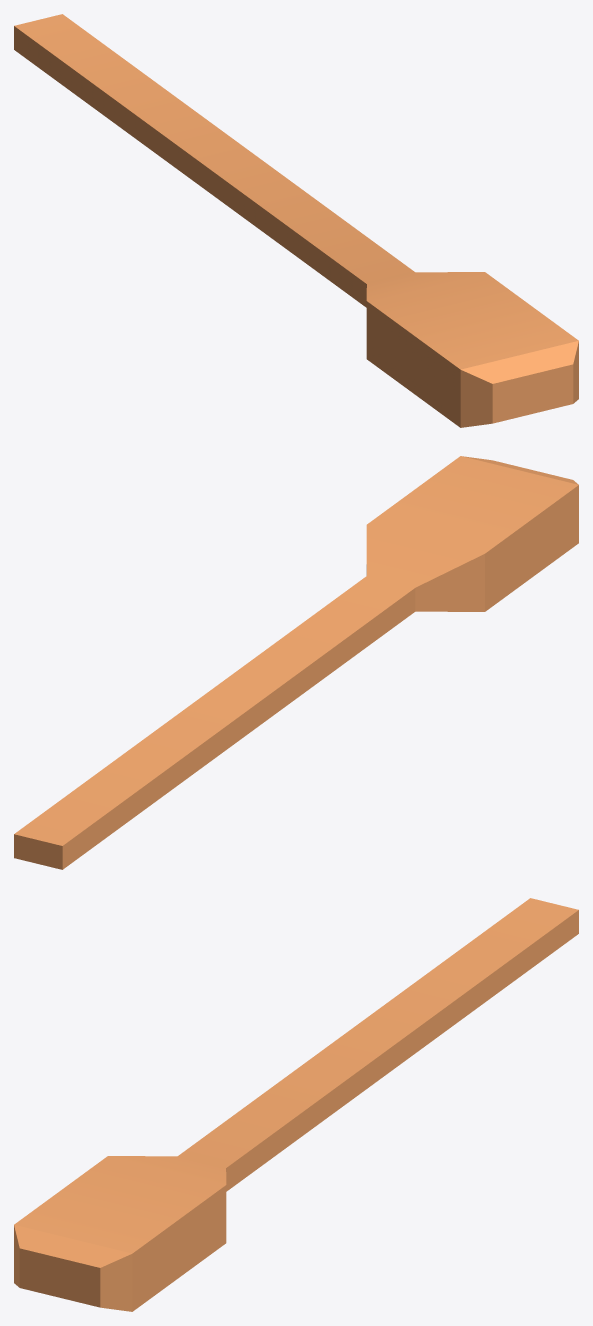
Rendered from canoe_paddle.fbx.
The picture shows the model from 3 angles, top to bottom: view 1: azimuth 30°, elevation 25°; view 2: azimuth 150°, elevation 25°; view 3: azimuth 330°, elevation 25°; orthographic projection.
Visible parts, largest first — view 1: canoe_paddle; view 2: canoe_paddle; view 3: canoe_paddle.
Part boxes in pixels (bbox=[...]): canoe_paddle: bbox=[14, 14, 578, 427]; canoe_paddle: bbox=[14, 456, 578, 869]; canoe_paddle: bbox=[14, 898, 578, 1311].
Size of the model in its own units: 0.7672 by 0.361 by 5.55.
